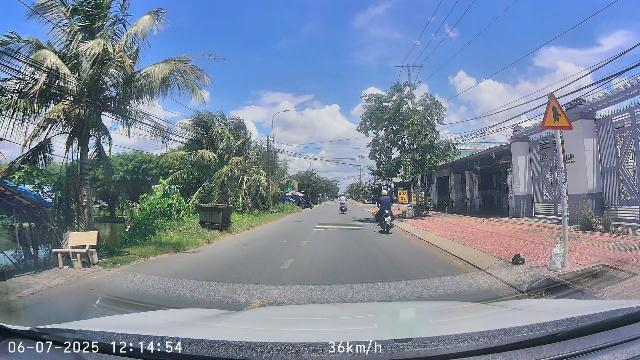207-giao-nhau-voi-duong-khong-uu-tien: (541, 93, 574, 130)
